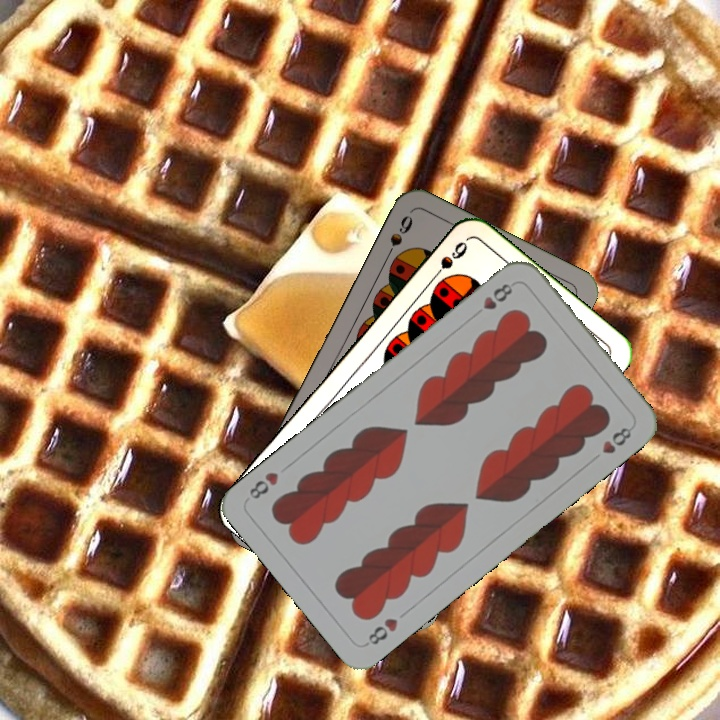H8: (361, 613, 401, 649), (478, 279, 518, 313)
S9: (425, 237, 471, 286), (380, 211, 416, 265)
